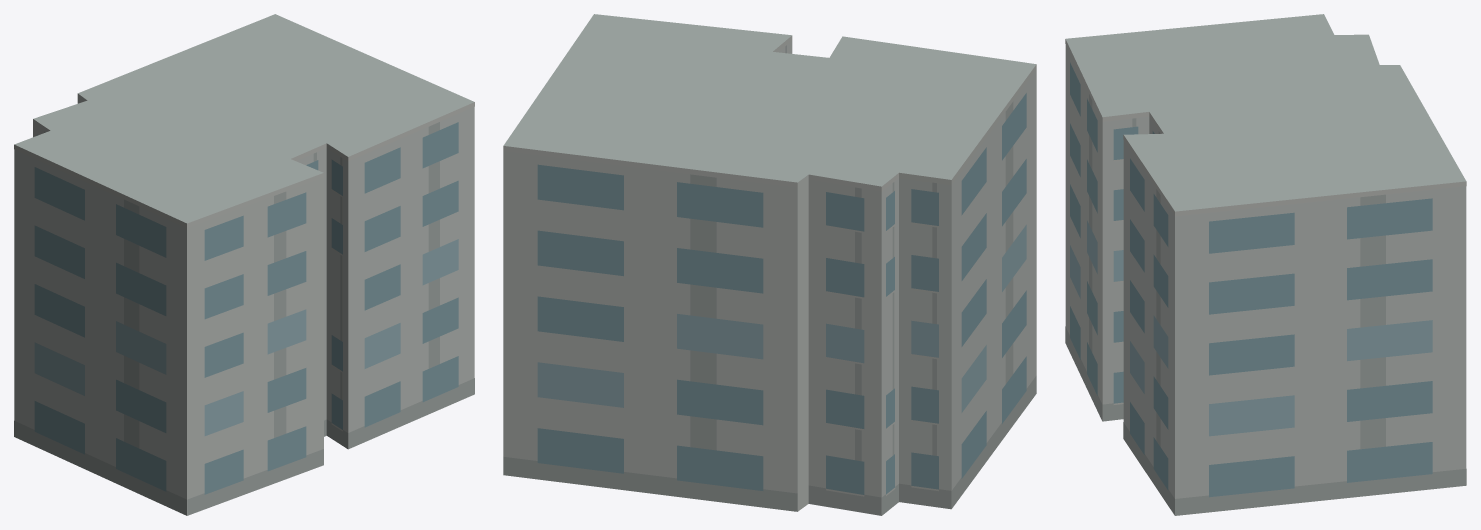
Rendered from residential-c8bfcfab-f70e-4dae-bb40-fe9ecea369fa.glb.
3 renders of one model, left to right at view 1: azimuth 30°, elevation 25°; view 2: azimuth 150°, elevation 25°; view 3: azimuth 270°, elevation 25°, orthographic. The views are drawn at different scales.
Parts seen in each view (by area): view 1: residential-c8bfcfab-f70e-4dae-bb40-fe9ecea369fa.tmp; view 2: residential-c8bfcfab-f70e-4dae-bb40-fe9ecea369fa.tmp; view 3: residential-c8bfcfab-f70e-4dae-bb40-fe9ecea369fa.tmp.
Boxes of the visible parts, bbox=[...] form: residential-c8bfcfab-f70e-4dae-bb40-fe9ecea369fa.tmp: bbox=[14, 14, 474, 515]; residential-c8bfcfab-f70e-4dae-bb40-fe9ecea369fa.tmp: bbox=[503, 14, 1036, 515]; residential-c8bfcfab-f70e-4dae-bb40-fe9ecea369fa.tmp: bbox=[1065, 14, 1466, 515].
Size of the model in its own units: 21.24 by 15.25 by 18.22.
